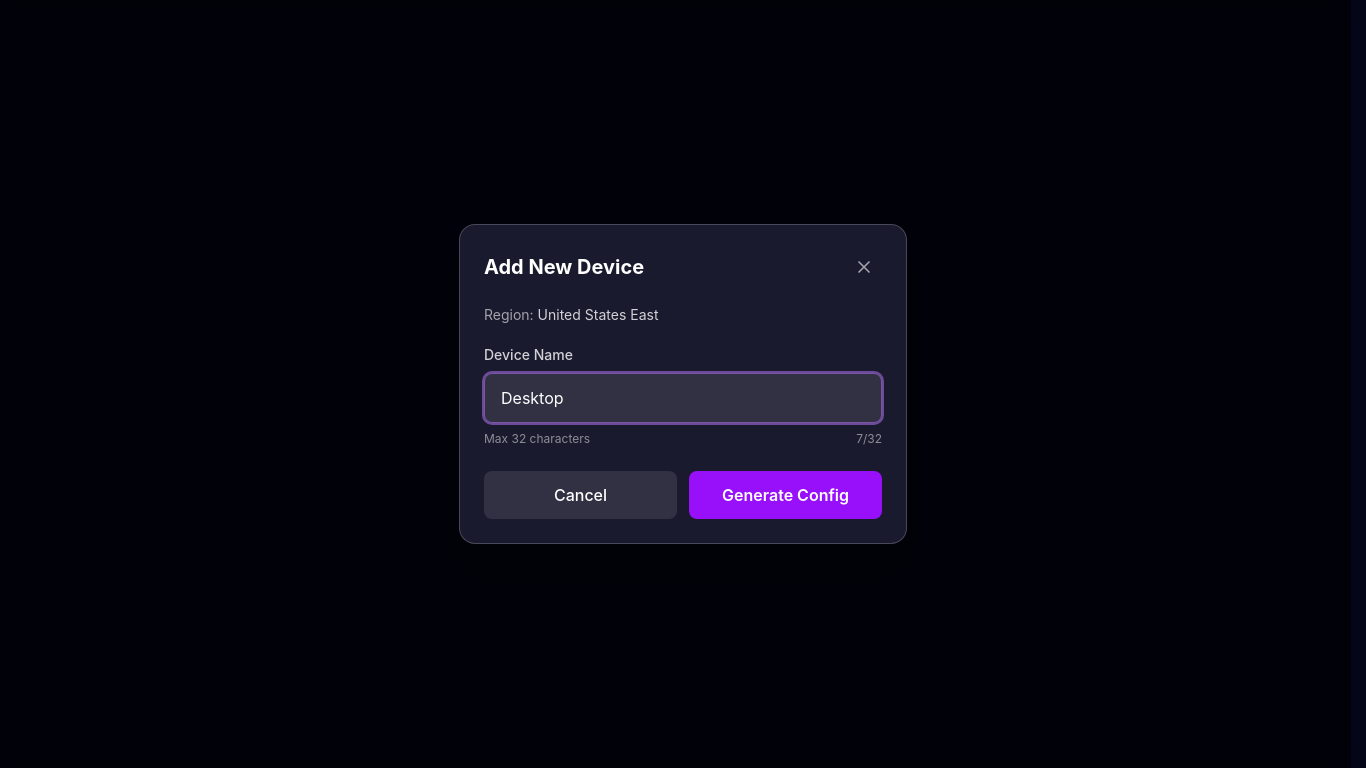
Scenario: DeviceConfigModal › config generation › should show error when generation fails
Click the button "Generate Config" at (786, 495), box [689, 471, 882, 519]
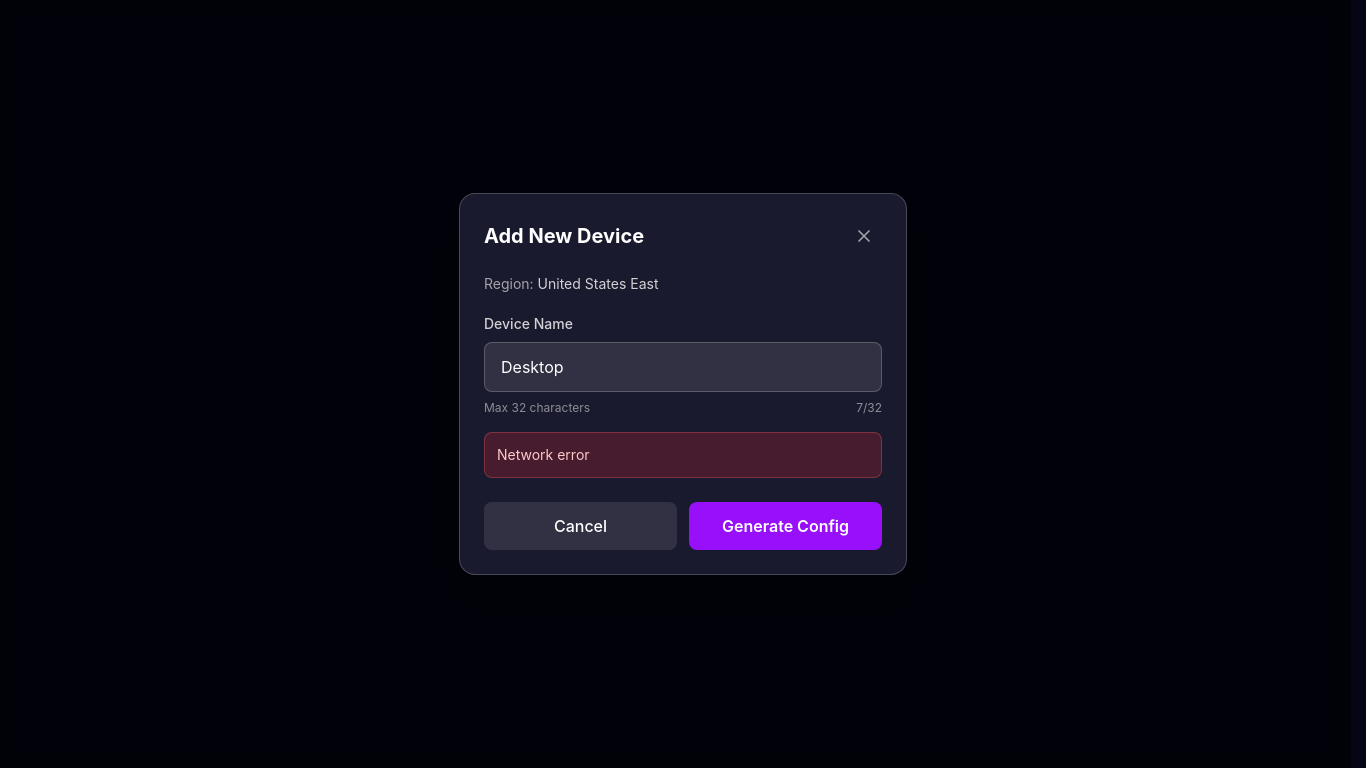
Expected: the text "Network error" is shown, [497, 446, 590, 463]
